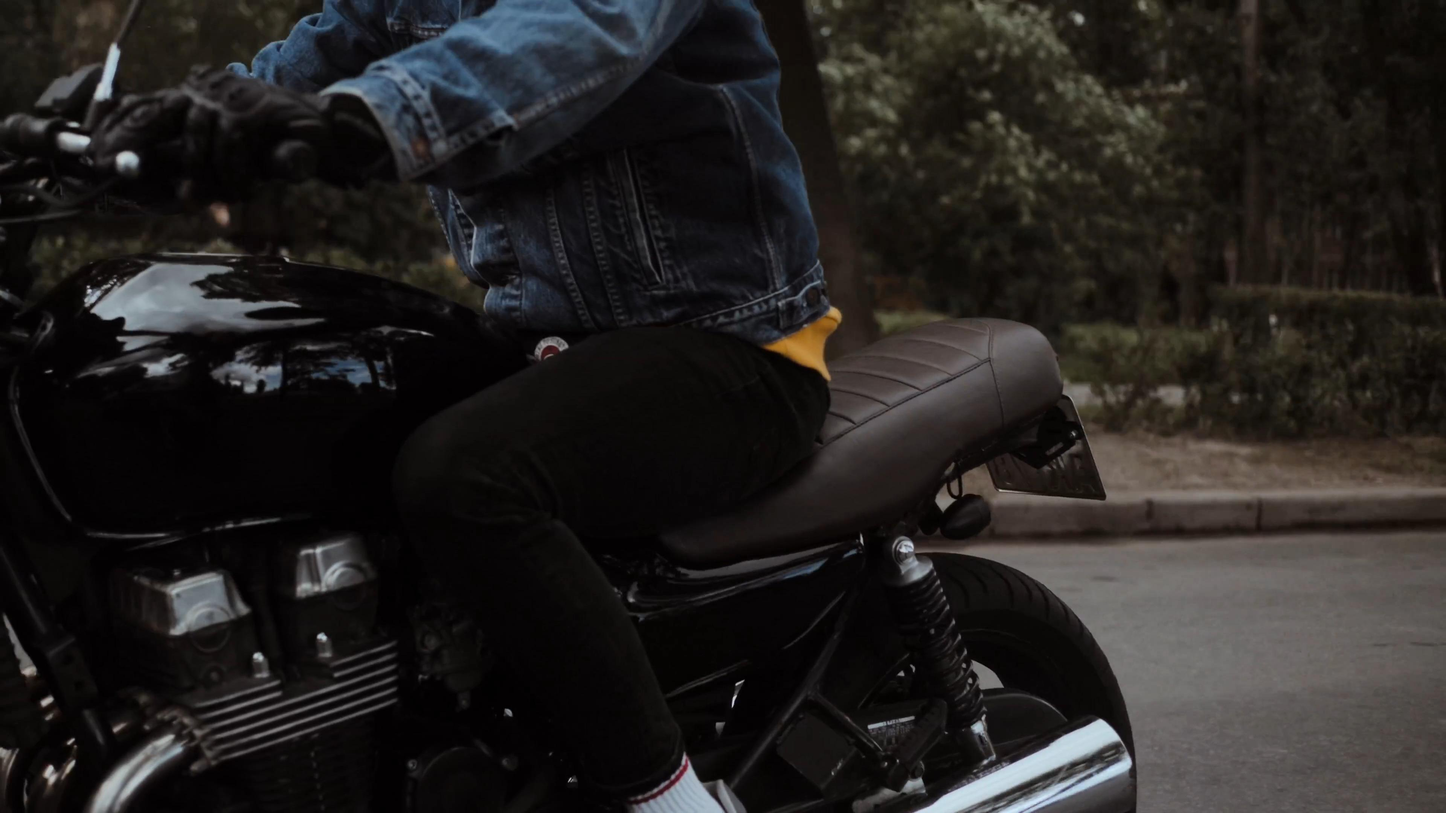driver: (0, 0, 1135, 813)
